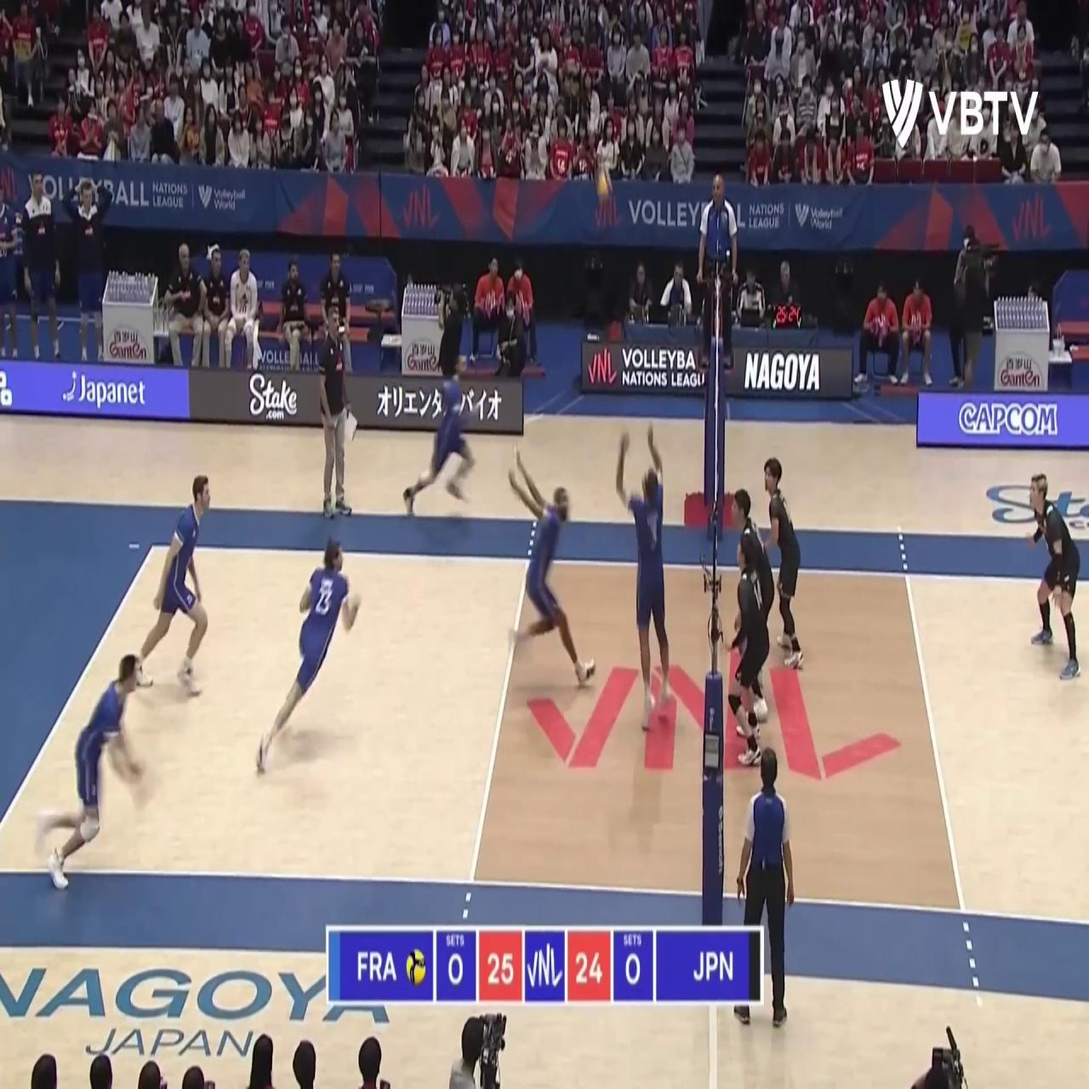ball: (596, 166, 613, 201)
